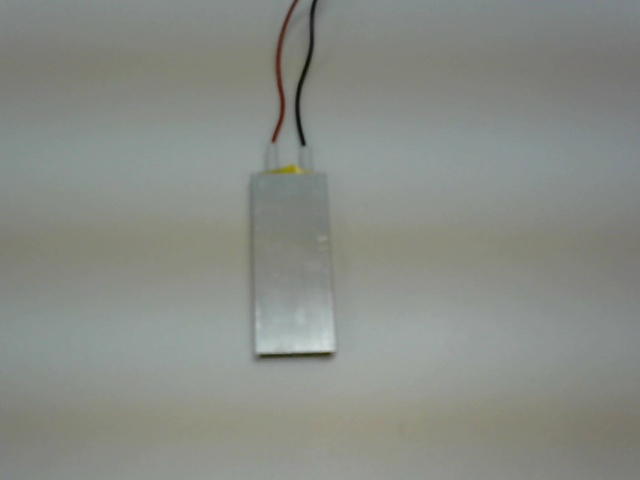heater: (231, 138, 359, 372)
